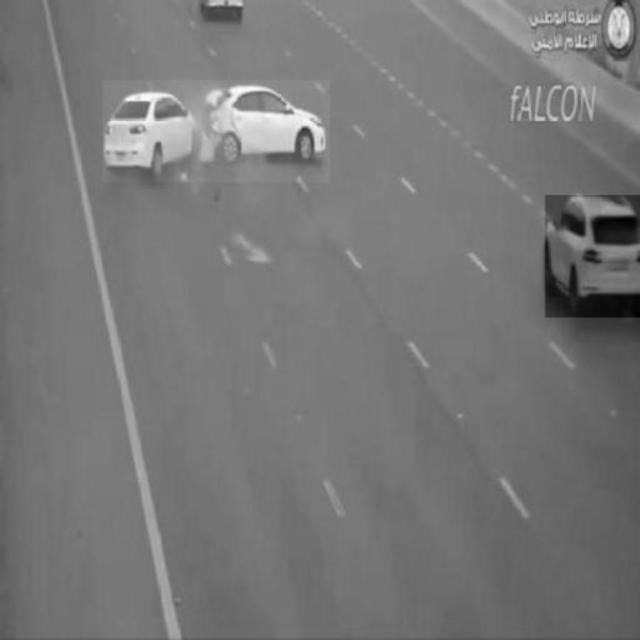accident: (103, 80, 330, 182)
vehicle: (545, 195, 639, 317)
